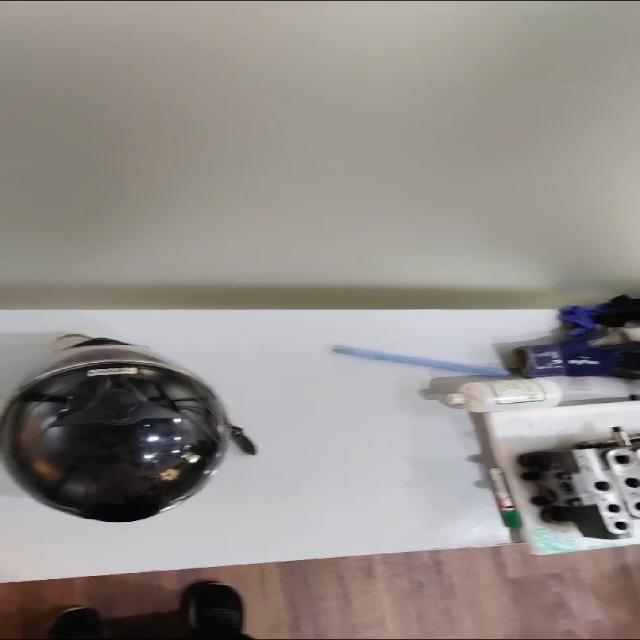helmet: (6, 327, 232, 530)
